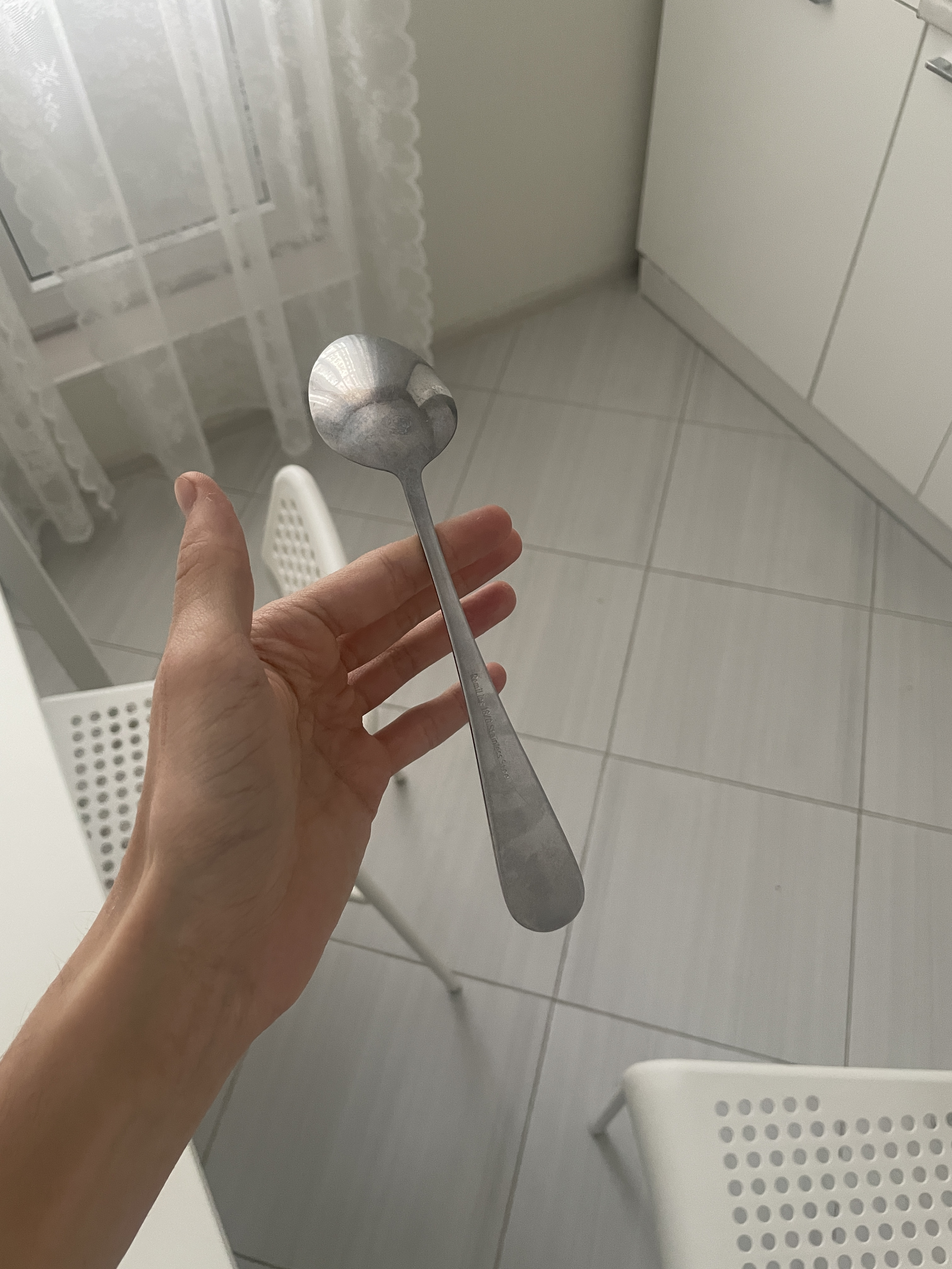spoon: (309, 335, 584, 932)
